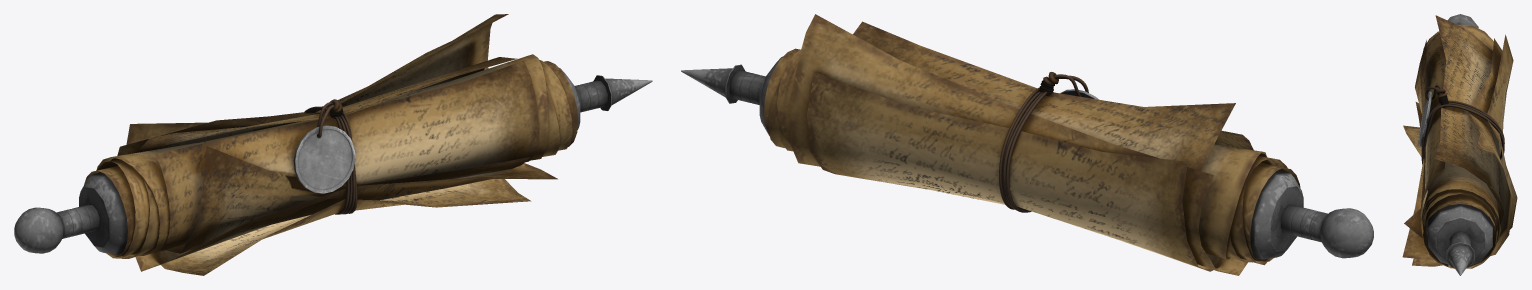
Rendered from scroll.glb.
3 views of the same model, side by side, from view 1: azimuth 30°, elevation 25°; view 2: azimuth 150°, elevation 25°; view 3: azimuth 270°, elevation 25° (orthographic). The views are drawn at different scales.
Parts seen in each view (by area): view 1: major_low; view 2: major_low; view 3: major_low.
Boxes of the visible parts, left/top/right/bottom form: major_low: left=14, top=14, right=652, bottom=275; major_low: left=681, top=14, right=1373, bottom=275; major_low: left=1402, top=14, right=1517, bottom=275.
Bounding box in the file's own units: 0.8206 × 0.1937 × 0.1589.
Materials: 1 (1 with a texture image).
